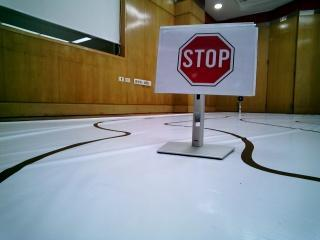stop: (161, 30, 244, 91)
